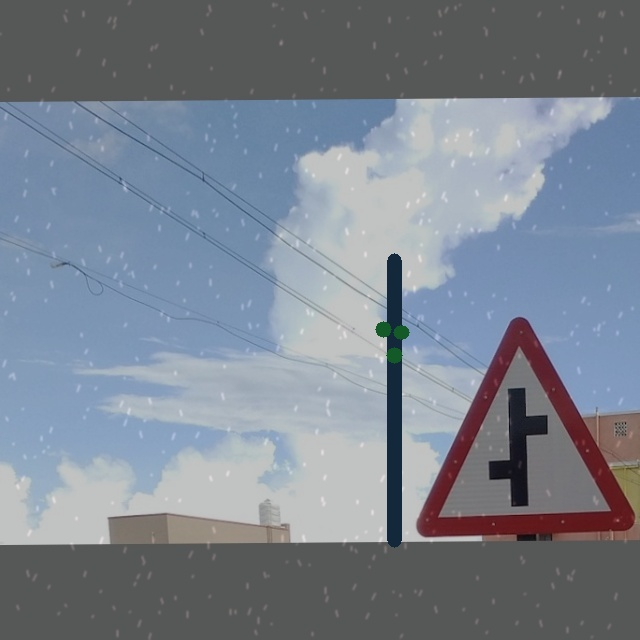Staggered_Intersection: (401, 317, 630, 529)
